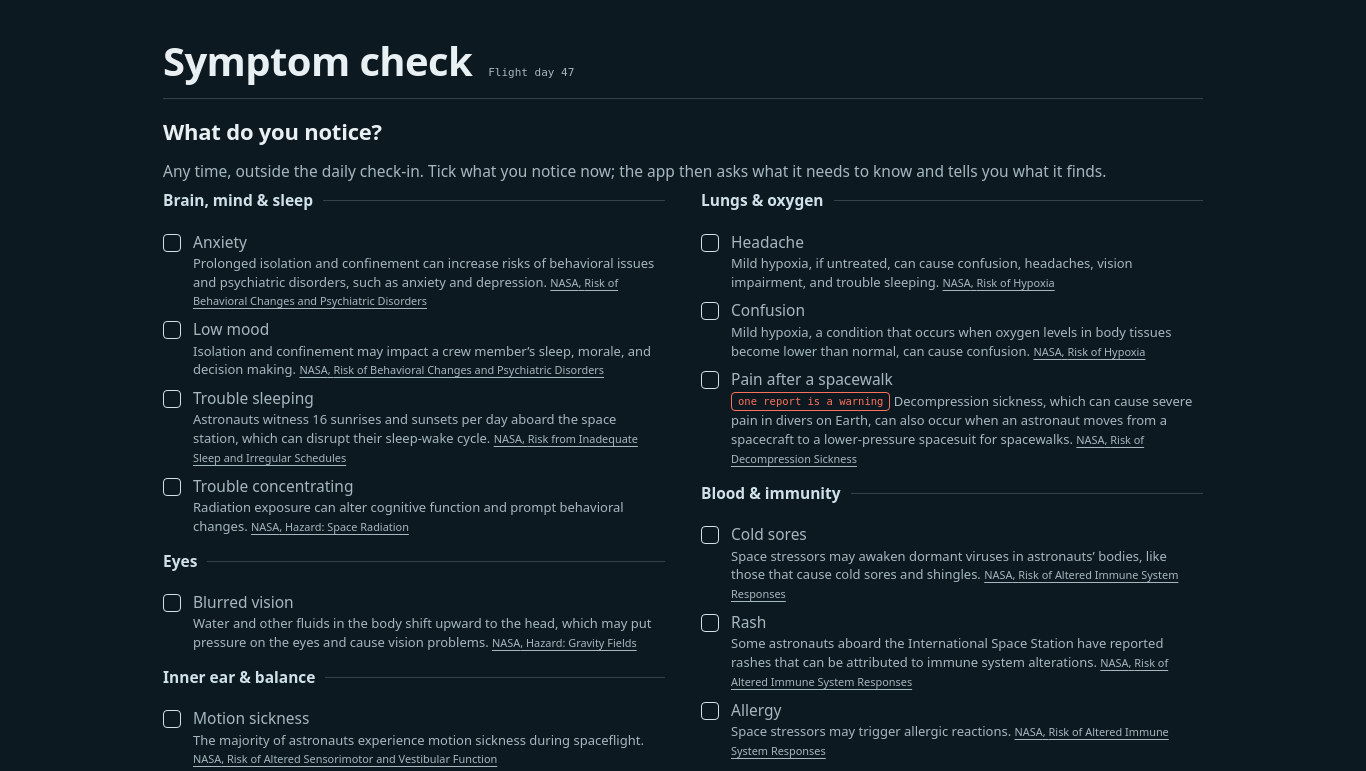
pain after a spacewalk needs no question: it is reported at once
Click the checkbox labelled "Pain after a spacewalk" at (710, 380), box [701,371,719,389]
(page scrolled)
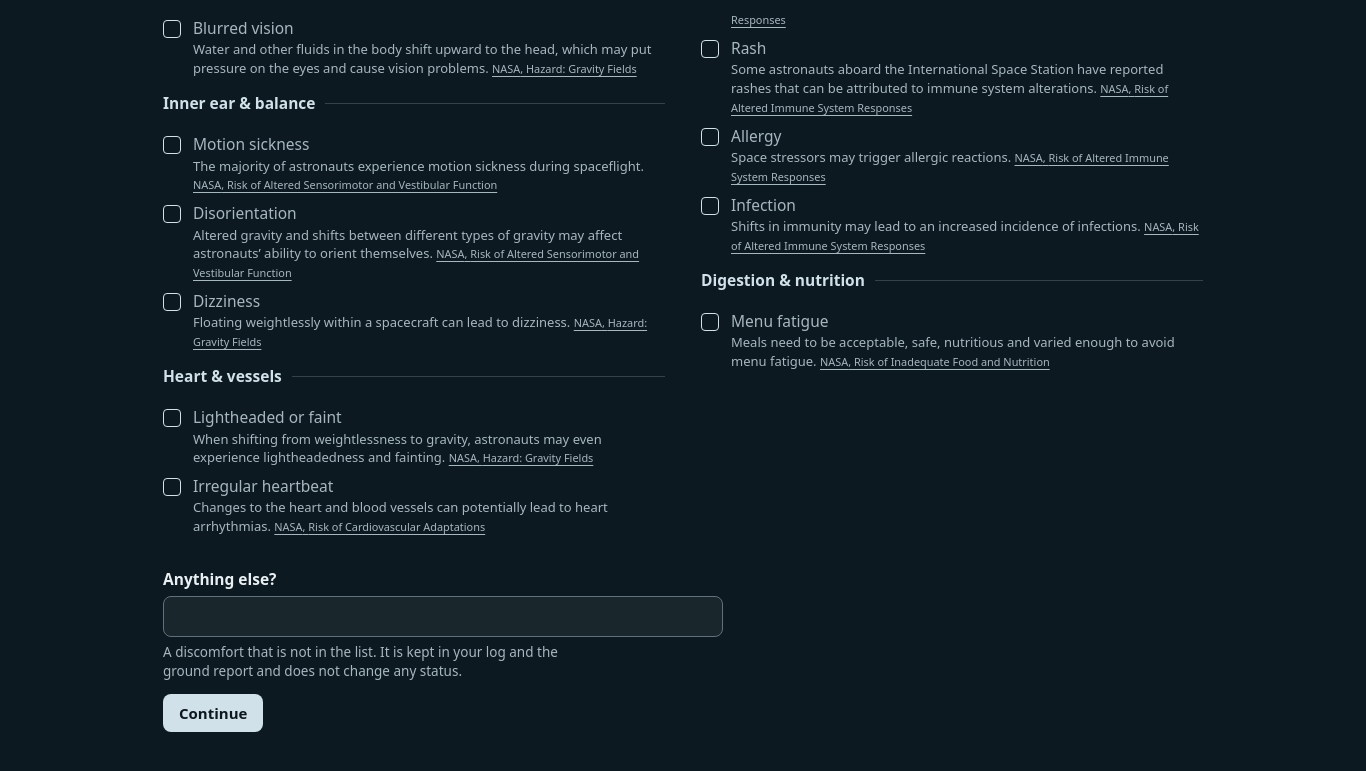
Click the button "Continue" at (213, 713), box [163,694,263,732]
(page scrolled)
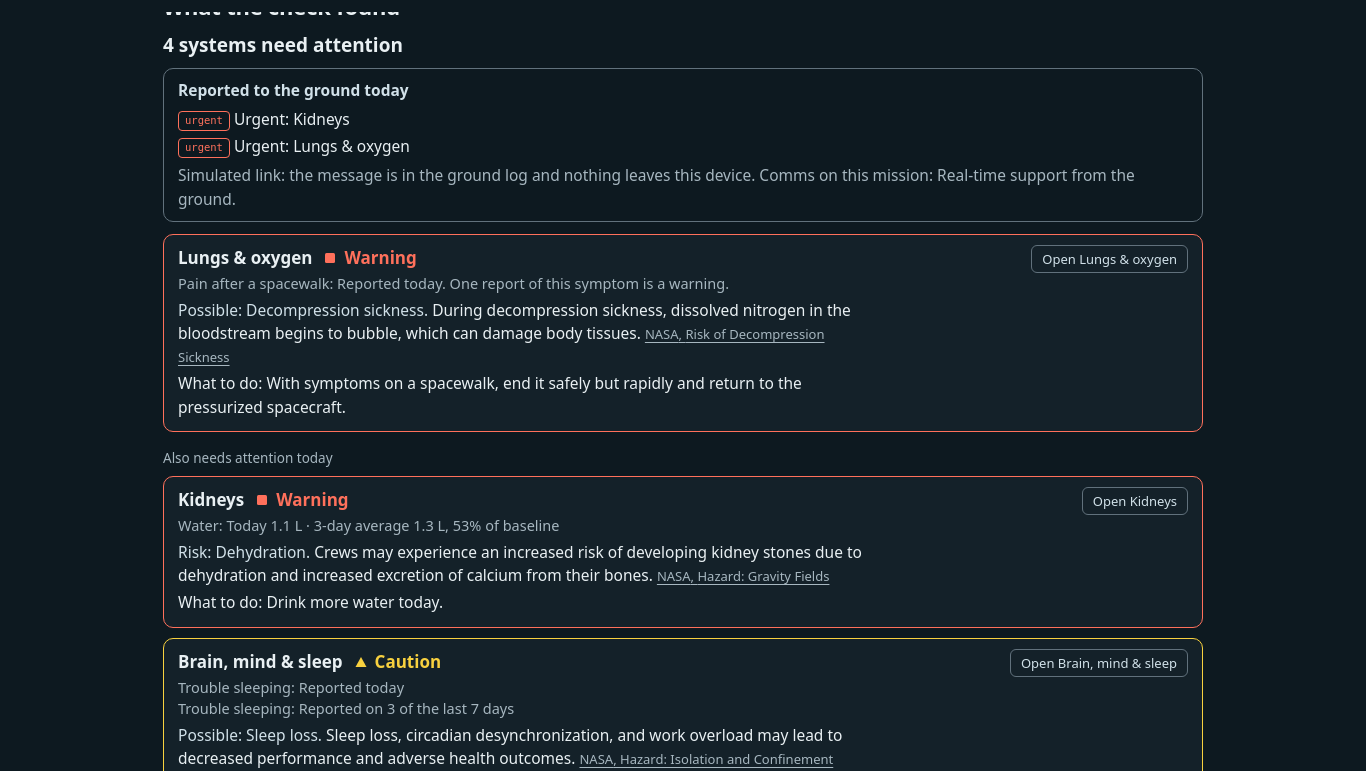
Expected: the text "Possible: Decompression sickness." is shown, [178,298,428,320]
Expected: the list item "Urgent: Lungs & oxygen" is shown, [234,135,410,157]
Expected: the text "end it safely but rapidly" is shown, [178,372,802,418]
